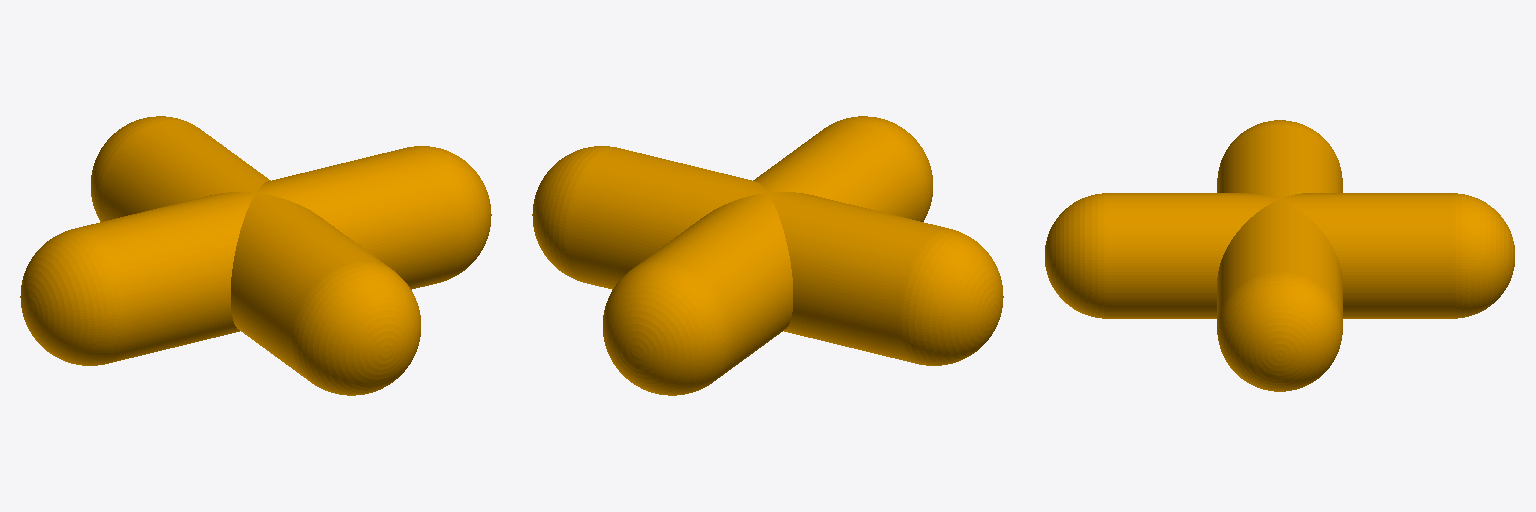
The robot description file, URDF, robot "object":
<?xml version="1.0"?>
<robot name="object">
  <link name="object">
    <visual>
      <origin xyz="0 0 0"/>
      <geometry>
        <mesh filename="meshes/non-convex-param/cross4_1.obj" scale=".08 .08 .08"/>
      </geometry>
    </visual>
    <collision>
  <origin xyz="0 0 0"/>
  <geometry>
    <mesh filename="meshes/non-convex-param/cross4_1_0decompose.obj" scale=".08 .08 .08"/>
<!--          <mesh filename="meshes/custom/obj0_ball.obj" scale=".05 .05 .05"/>-->
  </geometry>
</collision><collision>
  <origin xyz="0 0 0"/>
  <geometry>
    <mesh filename="meshes/non-convex-param/cross4_1_1decompose.obj" scale=".08 .08 .08"/>
<!--          <mesh filename="meshes/custom/obj0_ball.obj" scale=".05 .05 .05"/>-->
  </geometry>
</collision><collision>
  <origin xyz="0 0 0"/>
  <geometry>
    <mesh filename="meshes/non-convex-param/cross4_1_2decompose.obj" scale=".08 .08 .08"/>
<!--          <mesh filename="meshes/custom/obj0_ball.obj" scale=".05 .05 .05"/>-->
  </geometry>
</collision><collision>
  <origin xyz="0 0 0"/>
  <geometry>
    <mesh filename="meshes/non-convex-param/cross4_1_3decompose.obj" scale=".08 .08 .08"/>
<!--          <mesh filename="meshes/custom/obj0_ball.obj" scale=".05 .05 .05"/>-->
  </geometry>
</collision><collision>
  <origin xyz="0 0 0"/>
  <geometry>
    <mesh filename="meshes/non-convex-param/cross4_1_4decompose.obj" scale=".08 .08 .08"/>
<!--          <mesh filename="meshes/custom/obj0_ball.obj" scale=".05 .05 .05"/>-->
  </geometry>
</collision>

<!--    <collision>-->
<!--      <origin xyz="0 0 0"/>-->
<!--      <geometry>-->
<!--        <mesh filename="meshes/non-convex-param/cross4_1.obj" scale=".03 .03 .03"/>-->
<!--&lt;!&ndash;          <mesh filename="meshes/custom/obj0_ball.obj" scale=".05 .05 .05"/>&ndash;&gt;-->
<!--      </geometry>-->
<!--    </collision>-->
    <inertial>
      <density value="1000.0"/>
    </inertial>
  </link>
</robot>

--- Render facts (derived) ---
3 views of the same robot in one strip: view 1: azimuth 30°, elevation 25°; view 2: azimuth 150°, elevation 25°; view 3: azimuth 270°, elevation 25° (orthographic).
Model object with 1 links and 0 joints (none), rooted at object, posed all joints at 0.
Visible links, largest first — view 1: object; view 2: object; view 3: object.
Link boxes in pixels (bbox=[...]): object: bbox=[20, 116, 491, 395]; object: bbox=[532, 116, 1003, 395]; object: bbox=[1045, 120, 1514, 391].
Bounding box of the posed robot: 0.1091 × 0.1091 × 0.0291 m (x, y, z).
Meshes: 1 distinct files referenced, 1 mesh visuals loaded (1 OBJ).